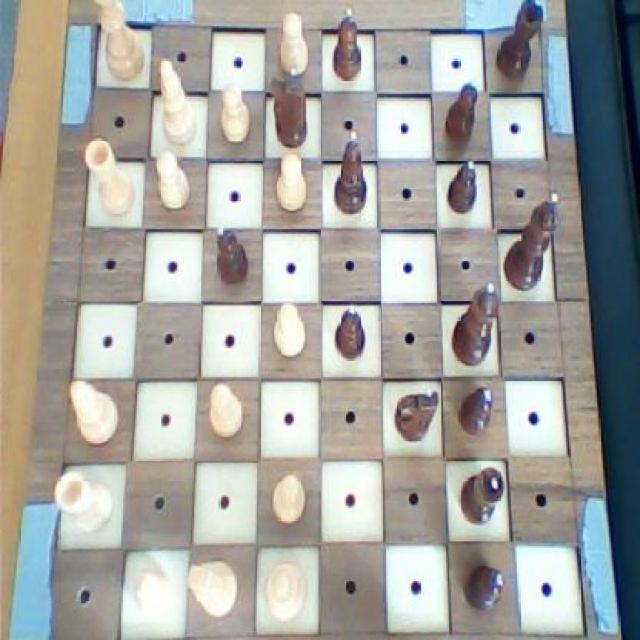bishop: (326, 124, 375, 220)
black-bishop: (503, 188, 562, 293)
black-king: (268, 68, 315, 154), (390, 386, 442, 448)
black-knight: (442, 71, 482, 149), (331, 6, 367, 87), (441, 154, 484, 221), (211, 222, 252, 292), (329, 298, 369, 362), (461, 557, 507, 612), (454, 382, 498, 438)
black-pawn: (449, 277, 502, 373)
black-queen: (490, 0, 548, 83), (454, 461, 506, 527)
black-rook: (150, 48, 202, 152), (63, 374, 122, 448)
white-bishop: (89, 0, 148, 83)
white-king: (184, 557, 240, 620)
white-knight: (128, 564, 176, 626), (152, 147, 195, 216), (271, 150, 314, 218), (265, 468, 313, 528), (205, 378, 246, 442), (215, 82, 253, 149), (268, 300, 309, 362), (277, 9, 312, 81)
white-pawn: (260, 555, 312, 624)
white-queen: (80, 134, 138, 221), (50, 468, 116, 539)
